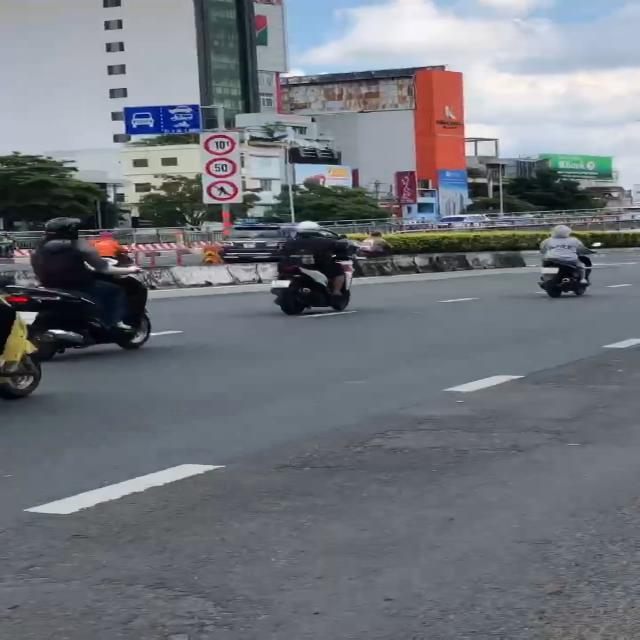Bien bao cam nguoi di bo: (205, 180, 243, 202)
Bien bao toc do toi da cho phep: (202, 156, 240, 180)
